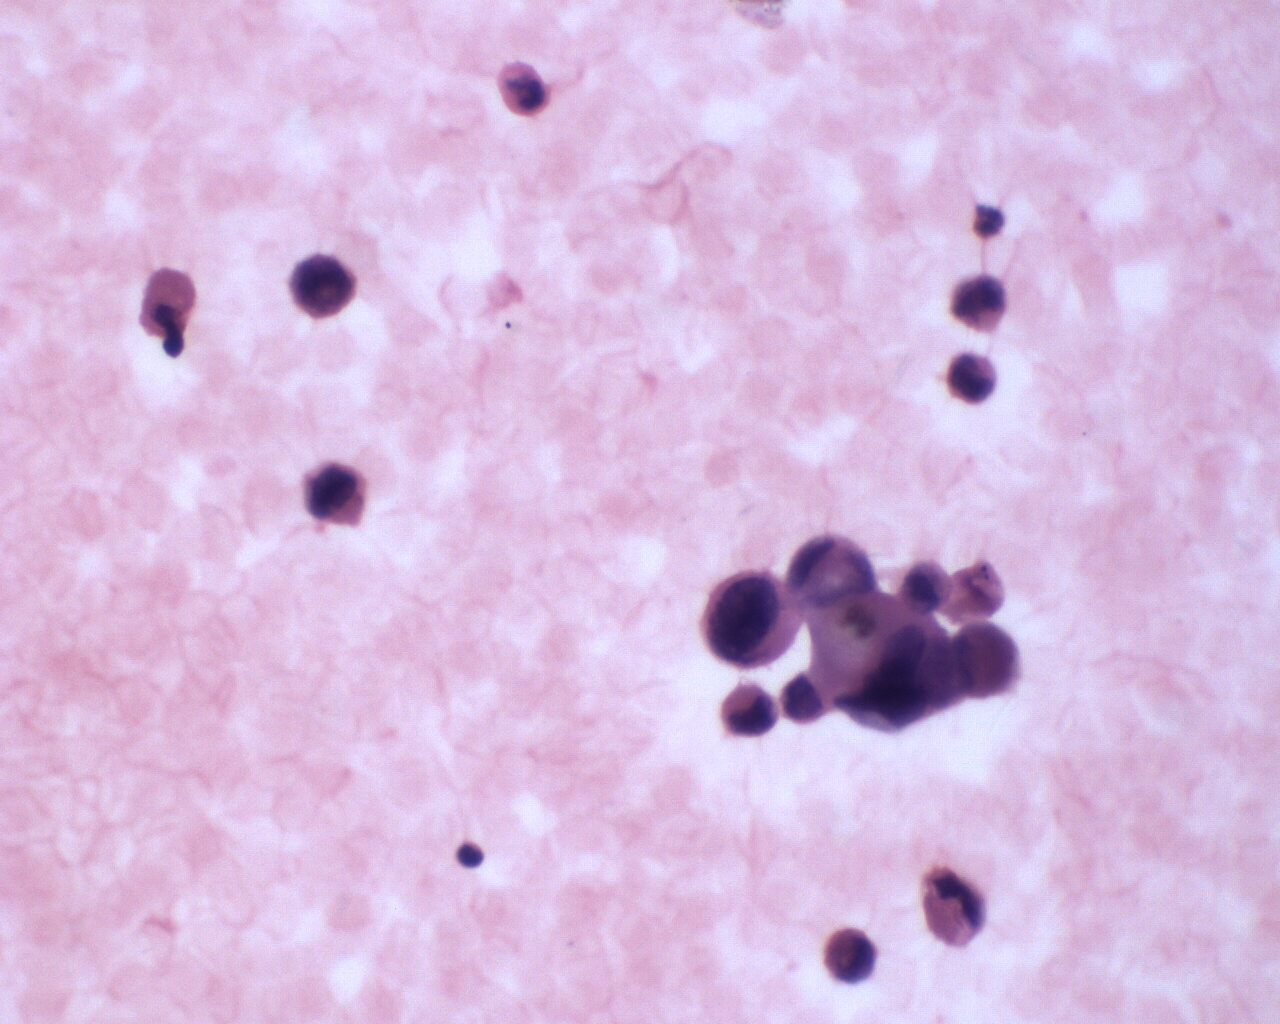ab: (694, 565, 804, 671), (288, 250, 359, 328), (299, 460, 368, 529), (817, 921, 880, 986), (718, 680, 779, 743)
lymph: (451, 837, 488, 872)
